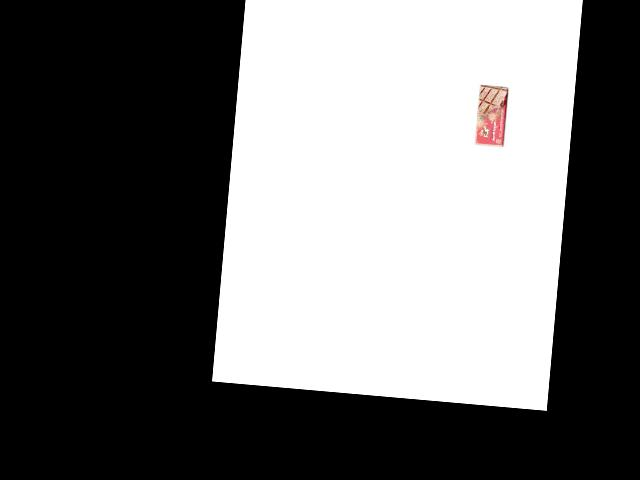chocolate: (473, 83, 510, 148)
